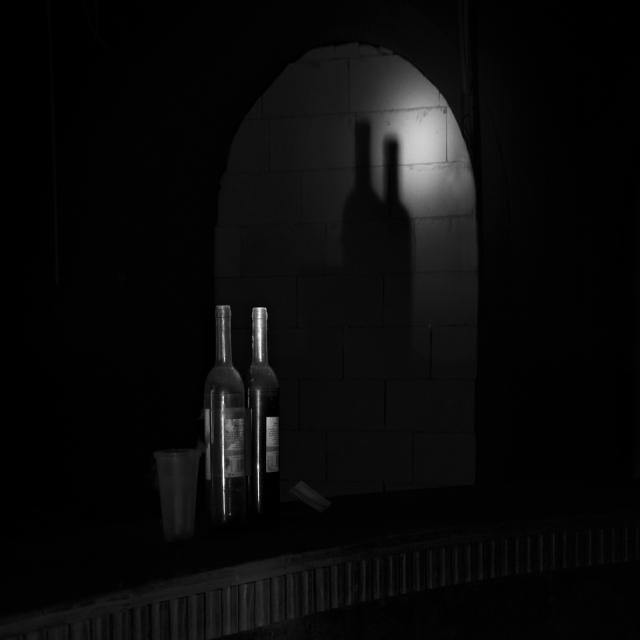Bottle: (238, 280, 295, 526), (206, 292, 253, 529)
Cup: (157, 418, 202, 556)
Table: (0, 442, 640, 640)
